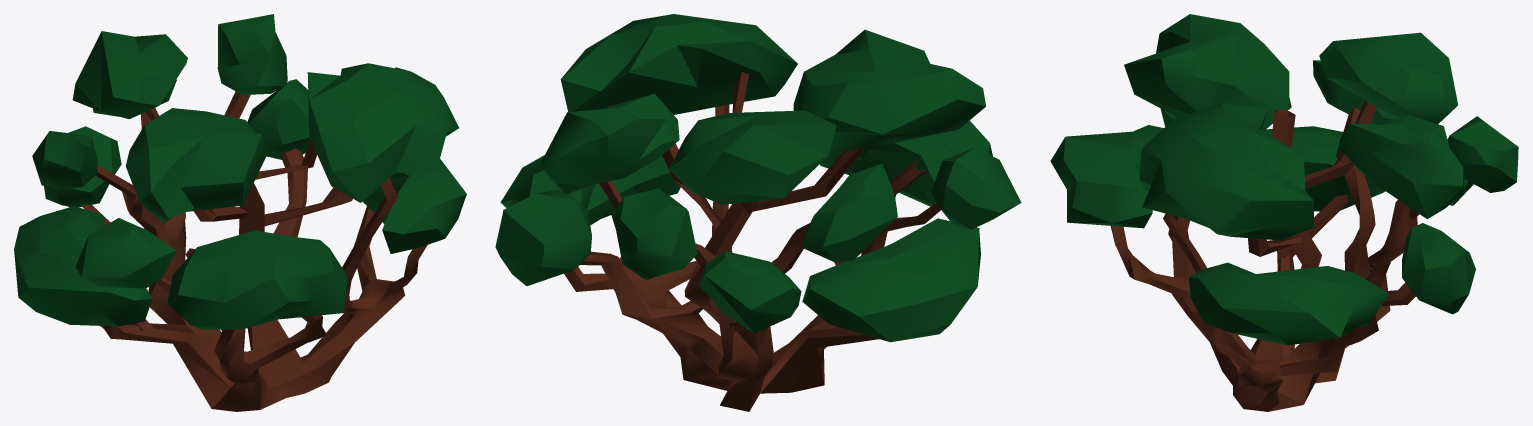
Rendered from Tree_7.fbx.
3 renders of one model, left to right at view 1: azimuth 30°, elevation 25°; view 2: azimuth 150°, elevation 25°; view 3: azimuth 270°, elevation 25°, orthographic. The views are drawn at different scales.
Visible parts, largest first — view 1: Tree_7; view 2: Tree_7; view 3: Tree_7.
Part boxes in pixels (x1,y1,x2,y2): Tree_7: (14, 14, 466, 411); Tree_7: (495, 14, 1021, 411); Tree_7: (1050, 14, 1518, 411).
Size of the model in its own units: 250 by 178 by 242.
